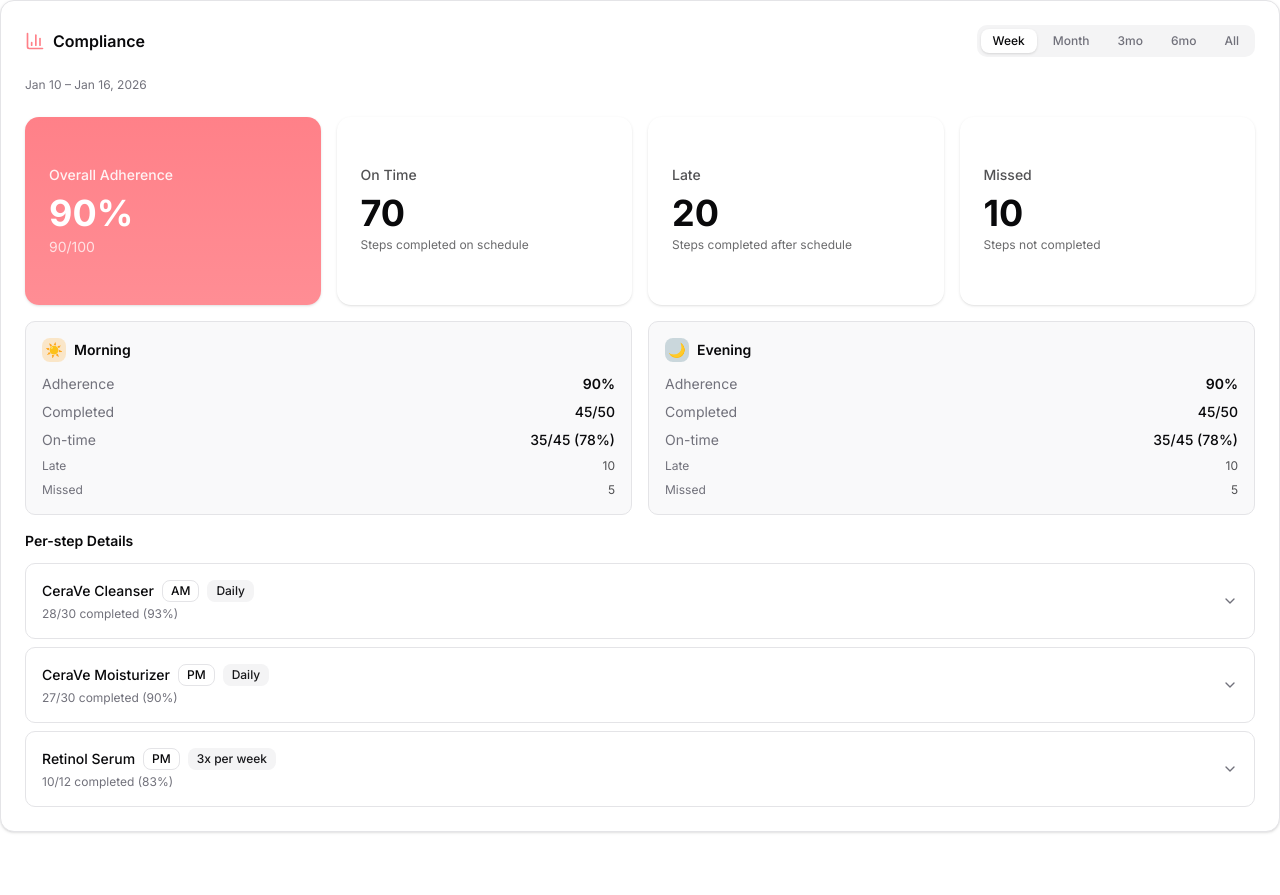
Test: ComplianceSection - UI Tests › user views step with missed dates and sees date badges
The image size is (1280, 895).
User expands step with missed dates
Click the text "CeraVe Cleanser" at (98, 591), box [42,581,154,601]
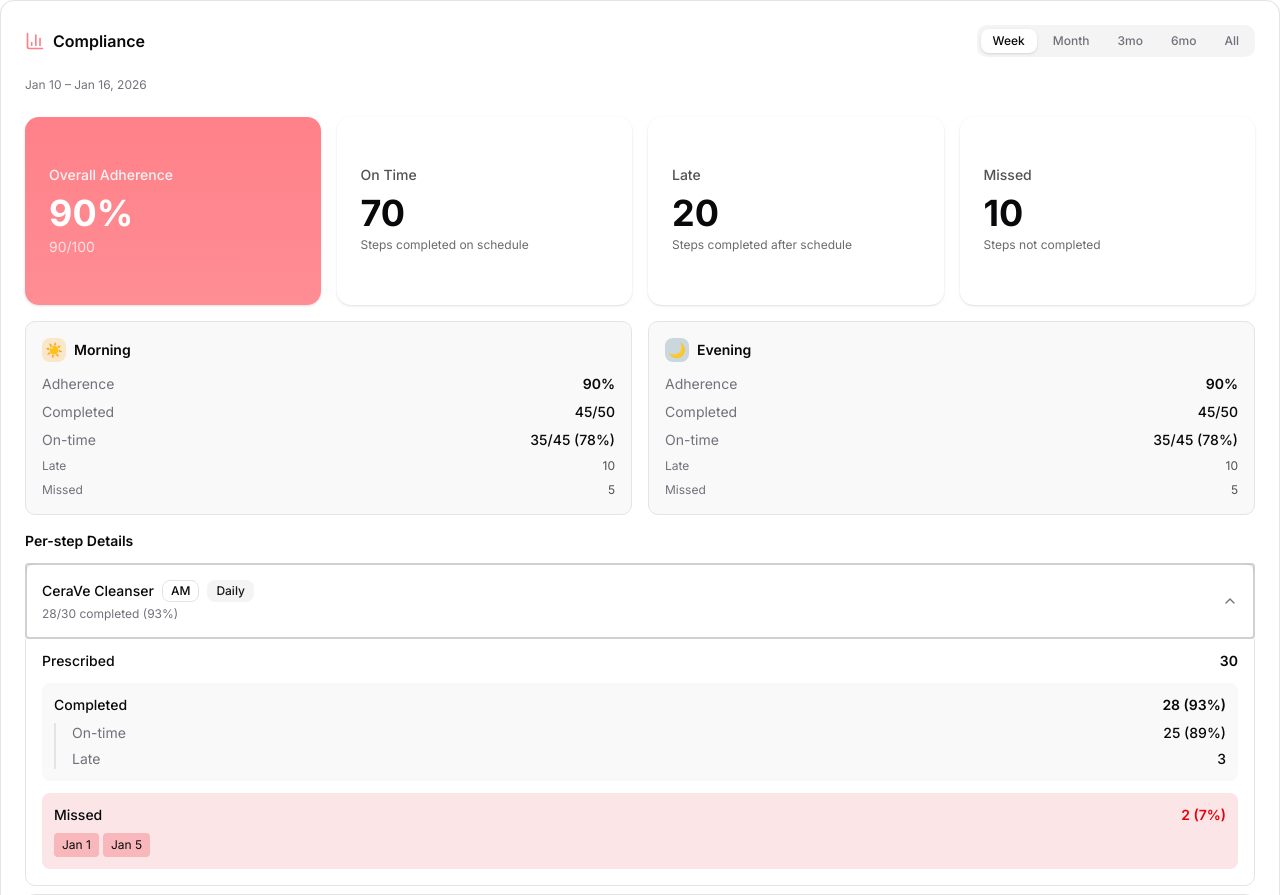
Expected: the text "Jan 1" is shown, [54,833,99,856]
Expected: the text "Jan 5" is shown, [103,833,150,856]
Expected: the text "2 (7%)" is shown, [1181,805,1226,825]
